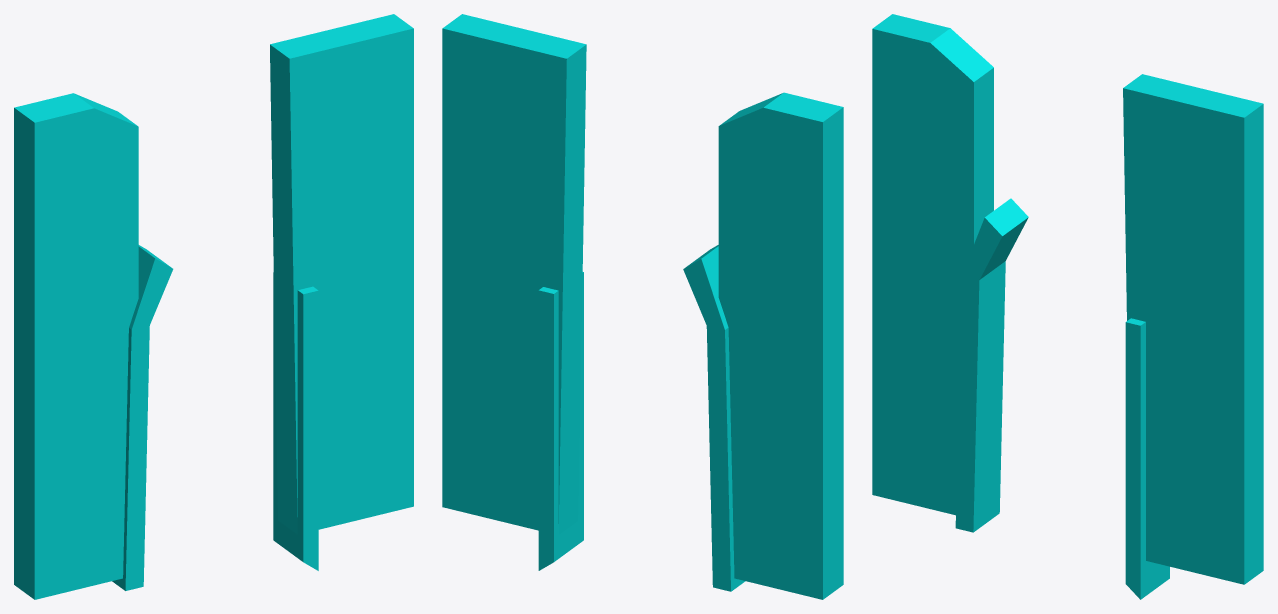
File: SM_Bld_Wall_Door_Ruin_02_Collision.fbx
3 views of the same model, side by side, from view 1: azimuth 30°, elevation 25°; view 2: azimuth 150°, elevation 25°; view 3: azimuth 330°, elevation 25° (orthographic). The views are drawn at different scales.
Visible parts, largest first — view 1: SM_Bld_Wall_Door_Ruin_02_Collision; view 2: SM_Bld_Wall_Door_Ruin_02_Collision; view 3: SM_Bld_Wall_Door_Ruin_02_Collision.
Part boxes in pixels (x1=…): SM_Bld_Wall_Door_Ruin_02_Collision: x1=14, y1=14, x2=413, y2=599; SM_Bld_Wall_Door_Ruin_02_Collision: x1=442, y1=14, x2=843, y2=599; SM_Bld_Wall_Door_Ruin_02_Collision: x1=872, y1=14, x2=1263, y2=599.
Size of the model in its own units: 250 by 323 by 34.16.
